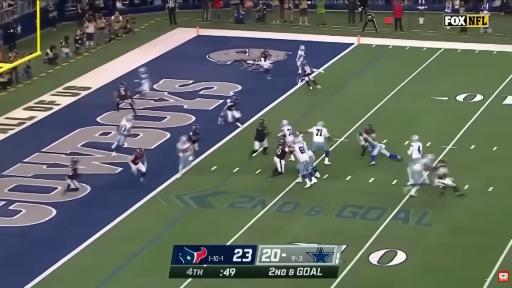Helmet: (179, 135, 188, 144), (438, 158, 447, 166), (426, 154, 434, 163), (124, 115, 134, 122), (281, 120, 289, 127), (71, 158, 79, 165), (295, 135, 303, 142), (259, 119, 266, 126), (411, 135, 418, 142), (279, 138, 286, 145), (138, 67, 146, 73), (193, 124, 199, 131), (232, 95, 239, 101), (280, 135, 286, 141), (136, 148, 143, 153), (300, 45, 305, 51), (367, 124, 373, 129), (301, 60, 306, 65), (120, 82, 126, 86), (318, 122, 324, 126), (264, 48, 269, 52)
Jersey: (308, 127, 329, 142), (293, 143, 309, 162), (408, 142, 422, 160), (118, 121, 132, 137), (139, 73, 151, 91), (177, 142, 192, 156), (282, 126, 294, 143), (116, 87, 130, 101), (415, 158, 431, 170), (131, 152, 145, 165), (255, 127, 267, 142), (368, 140, 386, 150), (302, 142, 313, 158), (435, 166, 448, 179), (67, 165, 78, 180), (302, 64, 314, 77), (188, 130, 199, 144), (224, 100, 238, 111), (276, 146, 287, 160), (296, 50, 305, 66), (364, 129, 377, 137), (260, 52, 270, 62)
Player: (289, 141, 317, 187), (404, 155, 434, 196), (433, 159, 462, 195), (308, 122, 332, 165), (297, 136, 320, 177), (366, 139, 402, 165), (112, 115, 133, 156), (176, 135, 194, 176), (270, 138, 288, 179), (407, 135, 422, 184), (250, 119, 269, 157), (114, 82, 136, 114), (219, 96, 241, 127), (301, 60, 323, 89), (129, 148, 146, 182), (65, 158, 79, 192), (135, 67, 151, 95), (259, 48, 272, 79), (357, 124, 375, 146), (281, 120, 295, 145), (188, 124, 199, 155), (296, 46, 305, 82)
